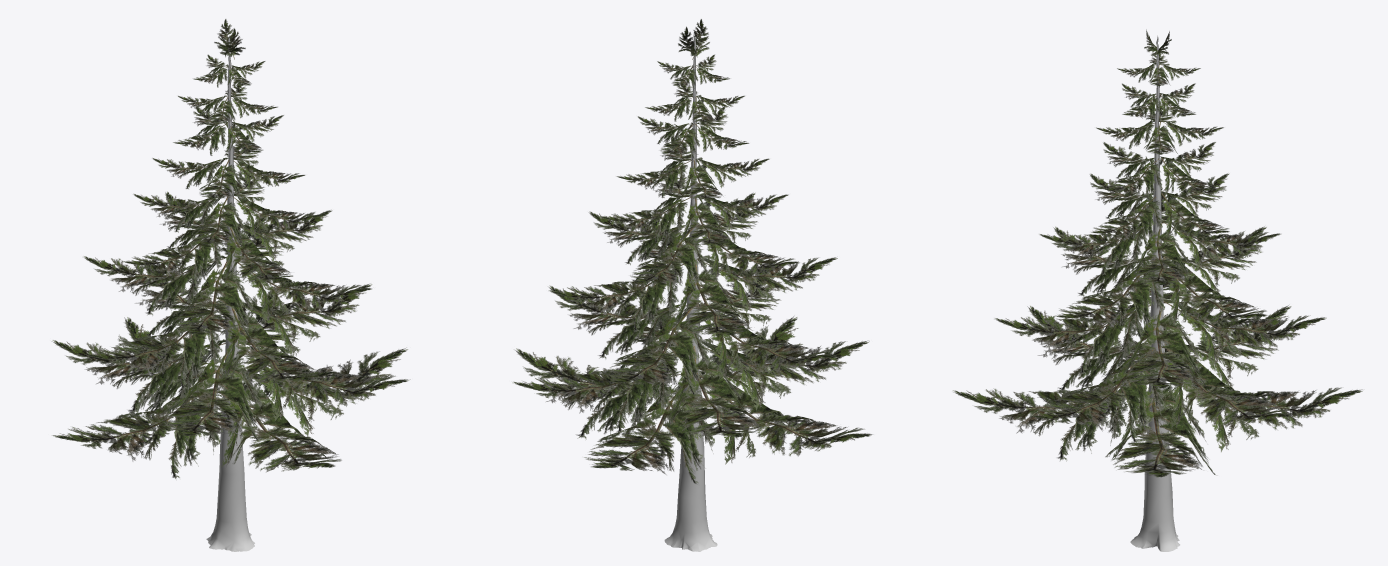
3 renders of one model, left to right at view 1: azimuth 30°, elevation 25°; view 2: azimuth 150°, elevation 25°; view 3: azimuth 270°, elevation 25°, orthographic.
Visible parts, largest first — view 1: fir; view 2: fir; view 3: fir.
Boxes of the visible parts, x1,y1,x2,y2 form: fir: (51, 19, 410, 551); fir: (513, 19, 872, 551); fir: (953, 29, 1362, 551).
Size of the model in its own units: 334 by 444 by 334.
